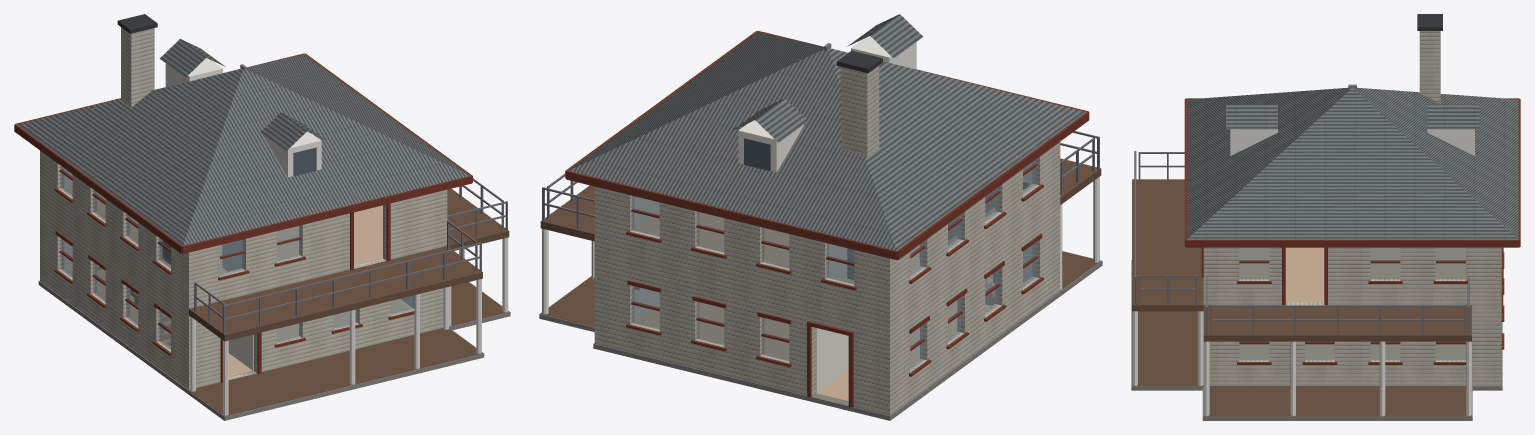
Rendered from cr-foursquare.towns-v1.lod0.glb.
3 renders of one model, left to right at view 1: azimuth 30°, elevation 25°; view 2: azimuth 150°, elevation 25°; view 3: azimuth 270°, elevation 25°, orthographic. The views are drawn at different scales.
Visible parts, largest first — view 1: cr-foursquare; view 2: cr-foursquare; view 3: cr-foursquare.
Part boxes in pixels (x1,y1,x2,y2): cr-foursquare: (14,14,510,420); cr-foursquare: (539,14,1102,420); cr-foursquare: (1131,14,1520,420).
Size of the model in its own units: 13.07 by 10.14 by 13.07.
Materials: 6 (2 with a texture image).
